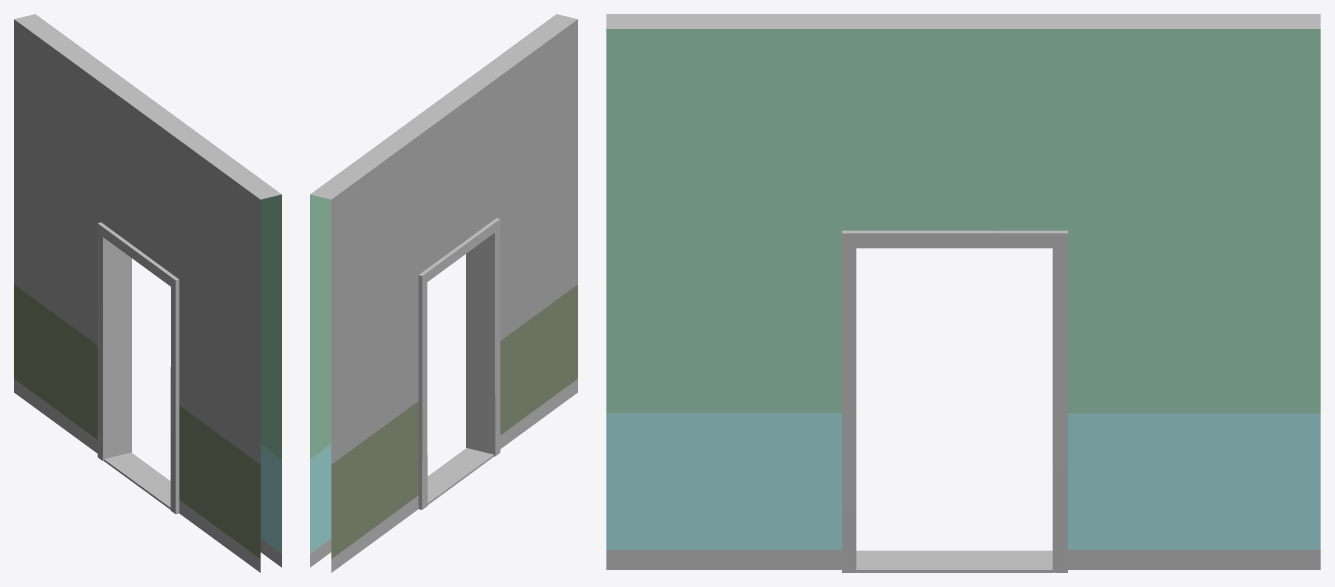
File: SM_DoorFrame_400.fbx
3 views of the same model, side by side, from view 1: azimuth 30°, elevation 25°; view 2: azimuth 150°, elevation 25°; view 3: azimuth 270°, elevation 25° (orthographic). The views are drawn at different scales.
Visible parts, largest first — view 1: SM_DoorFrame_400; view 2: SM_DoorFrame_400; view 3: SM_DoorFrame_400.
Part boxes in pixels (x1,y1,x2,y2): SM_DoorFrame_400: (14,14,281,572); SM_DoorFrame_400: (310,14,577,572); SM_DoorFrame_400: (606,14,1320,572).
Size of the model in its own units: 27.53 by 335 by 400.
